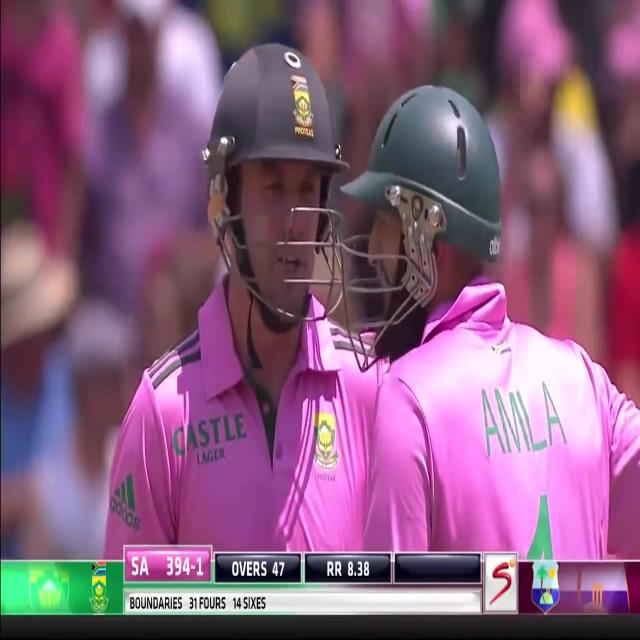Ball: (324, 86, 640, 558), (100, 23, 350, 557)
